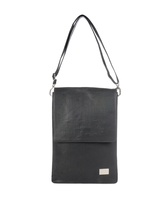bag: (48, 12, 126, 187)
